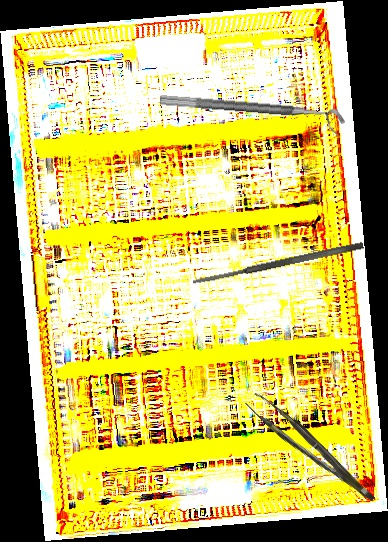Fixation Ring: (158, 93, 346, 137)
Spatula Surgical: (191, 241, 365, 286)
Tissue Forceps: (244, 385, 376, 516)
